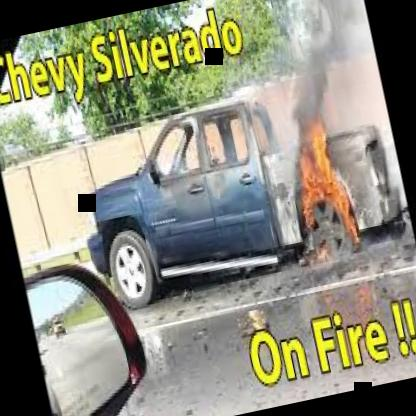fire: (268, 86, 369, 282)
